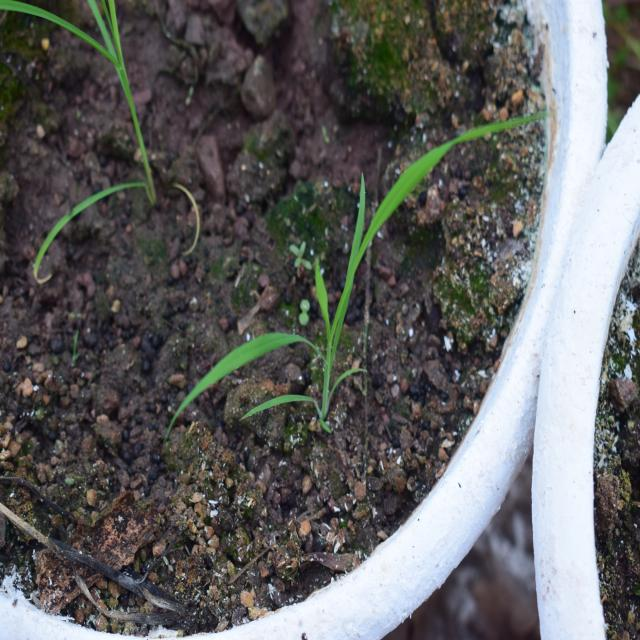barnyard_grass: (161, 110, 534, 414)
